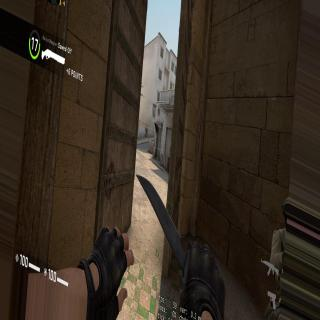CT-Body: (144, 127, 148, 138)
CT-Head: (145, 127, 147, 130)
